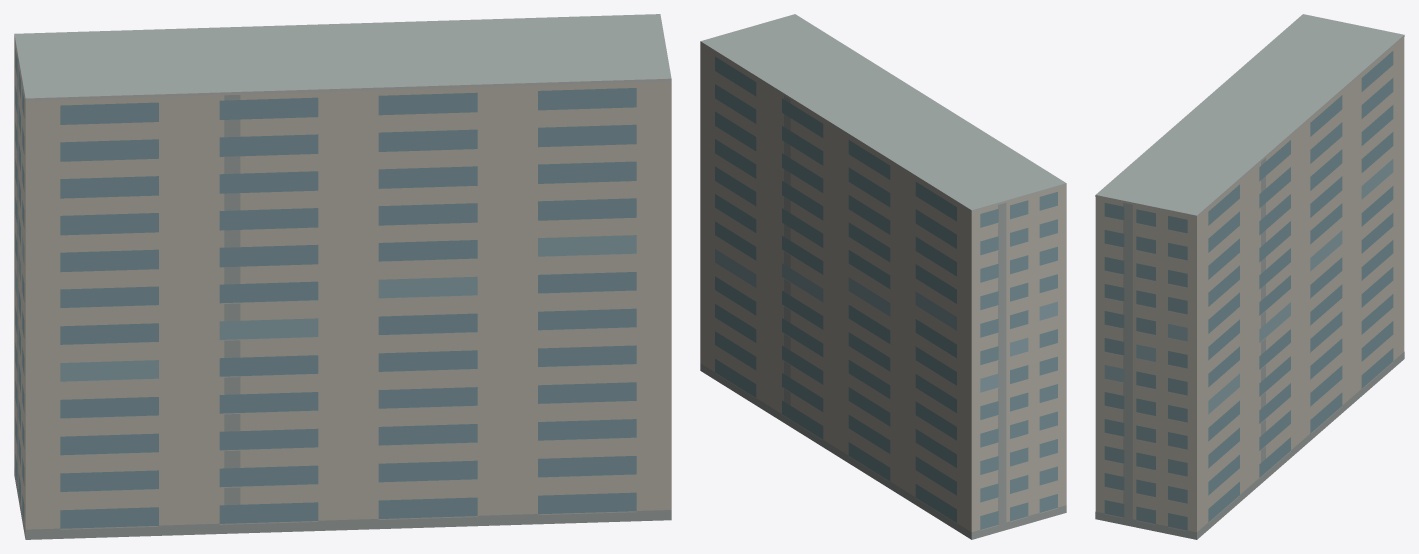
The model's file is residential-e08464d7-643a-4662-8caa-e2efe0113b0c.glb.
The picture shows the model from 3 angles, left to right: view 1: azimuth 30°, elevation 25°; view 2: azimuth 150°, elevation 25°; view 3: azimuth 270°, elevation 25°; orthographic projection. The views are drawn at different scales.
Visible parts, largest first — view 1: residential-e08464d7-643a-4662-8caa-e2efe0113b0c.tmp; view 2: residential-e08464d7-643a-4662-8caa-e2efe0113b0c.tmp; view 3: residential-e08464d7-643a-4662-8caa-e2efe0113b0c.tmp.
Boxes of the visible parts, x1,y1,x2,y2 form: residential-e08464d7-643a-4662-8caa-e2efe0113b0c.tmp: [14, 14, 671, 539]; residential-e08464d7-643a-4662-8caa-e2efe0113b0c.tmp: [700, 14, 1066, 539]; residential-e08464d7-643a-4662-8caa-e2efe0113b0c.tmp: [1095, 14, 1404, 539].
Bounding box in the file's own units: 48.82 × 36.6 × 31.61.
